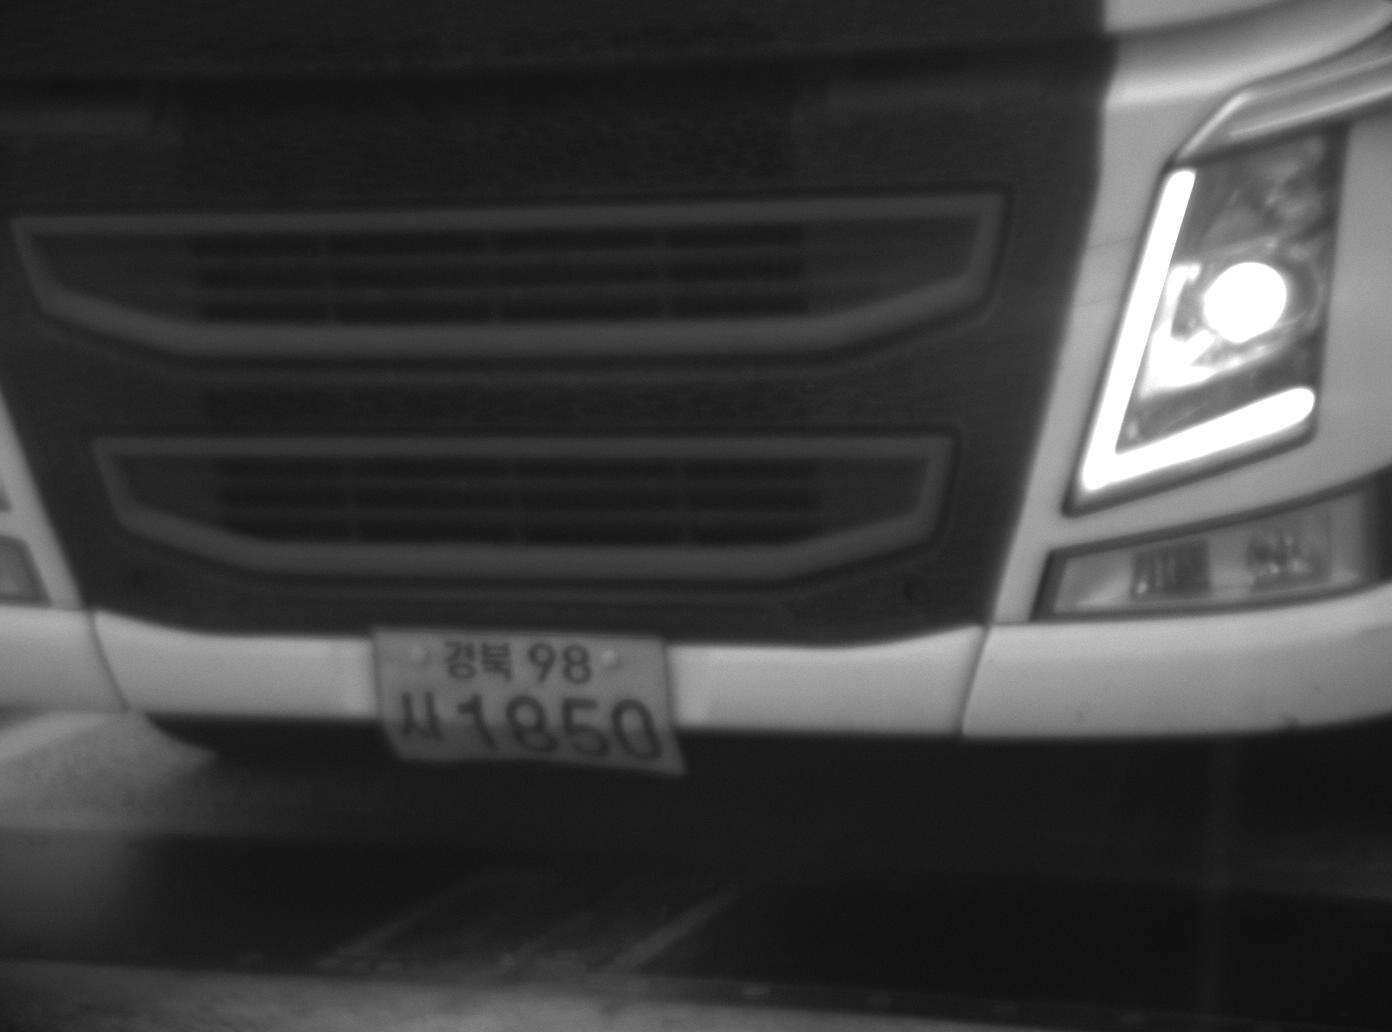car: (1, 1, 1390, 794)
plate: (367, 623, 680, 777)
